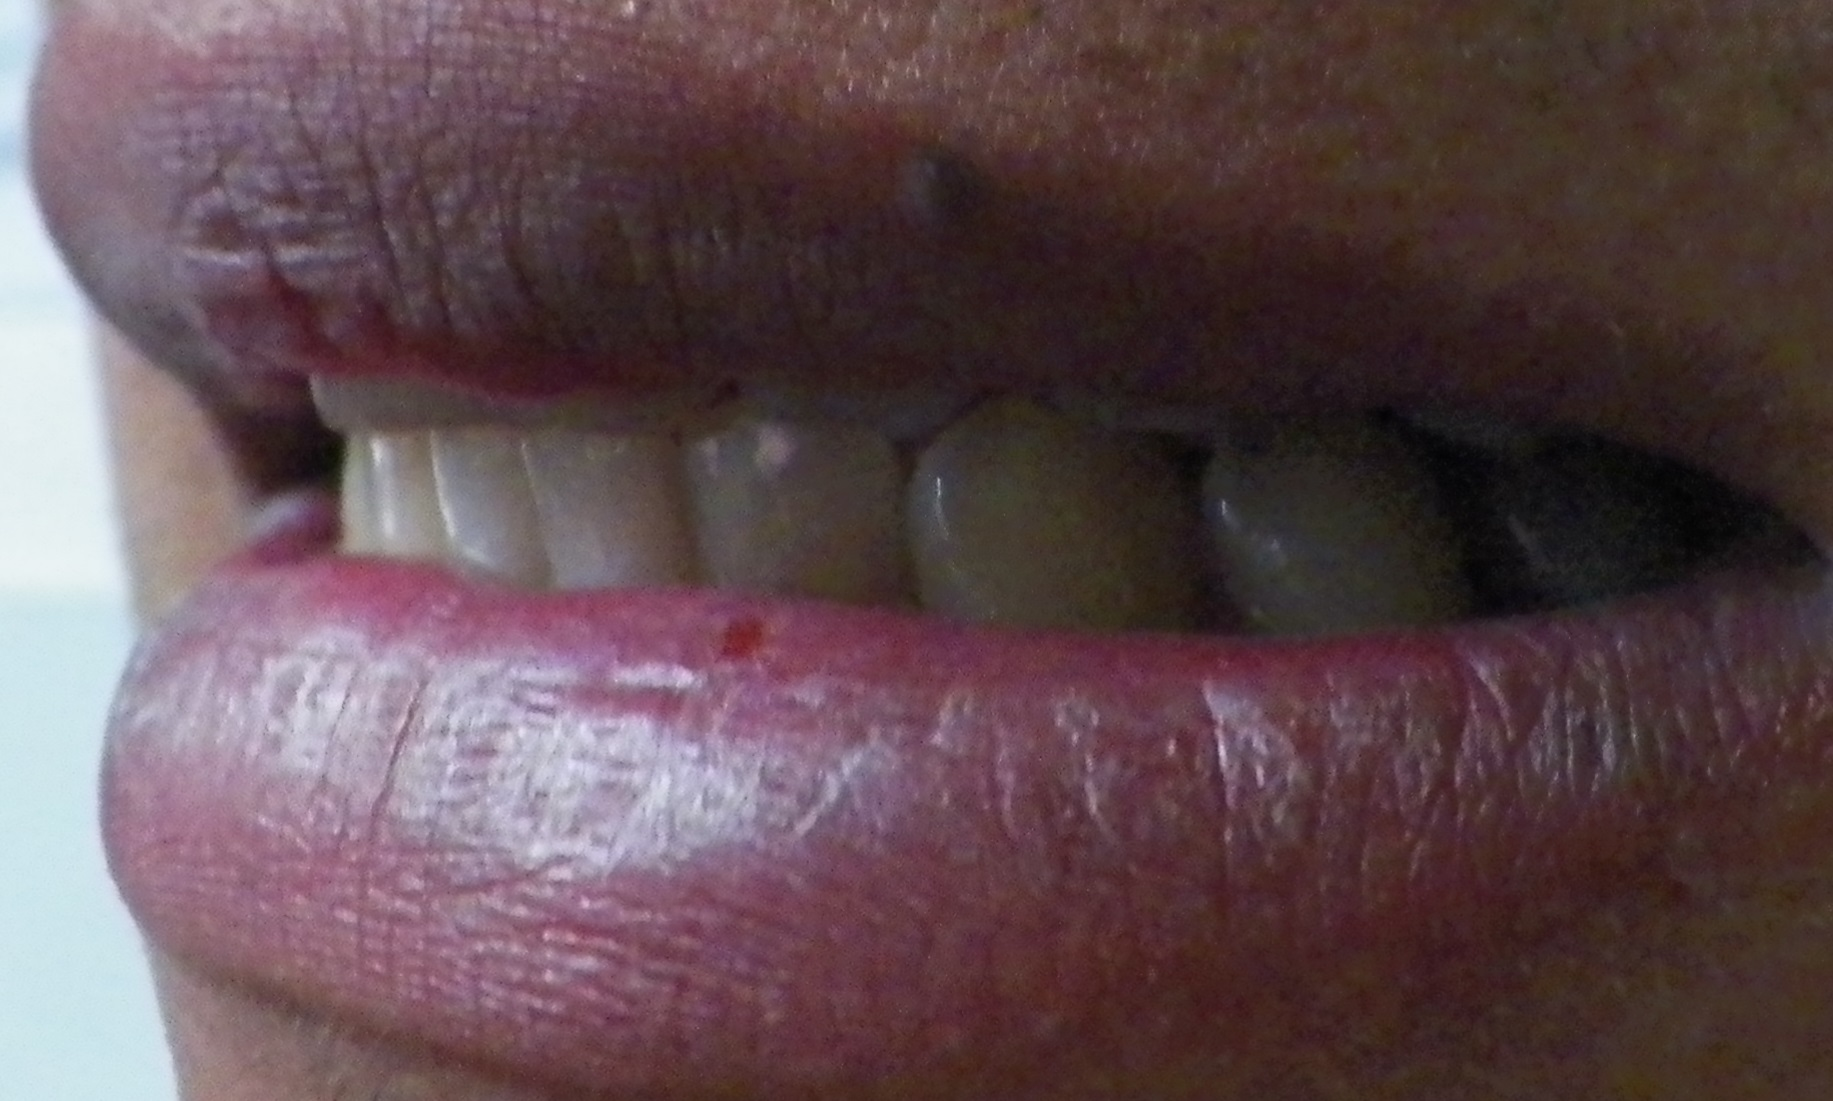boca: (329, 386, 1686, 628)
